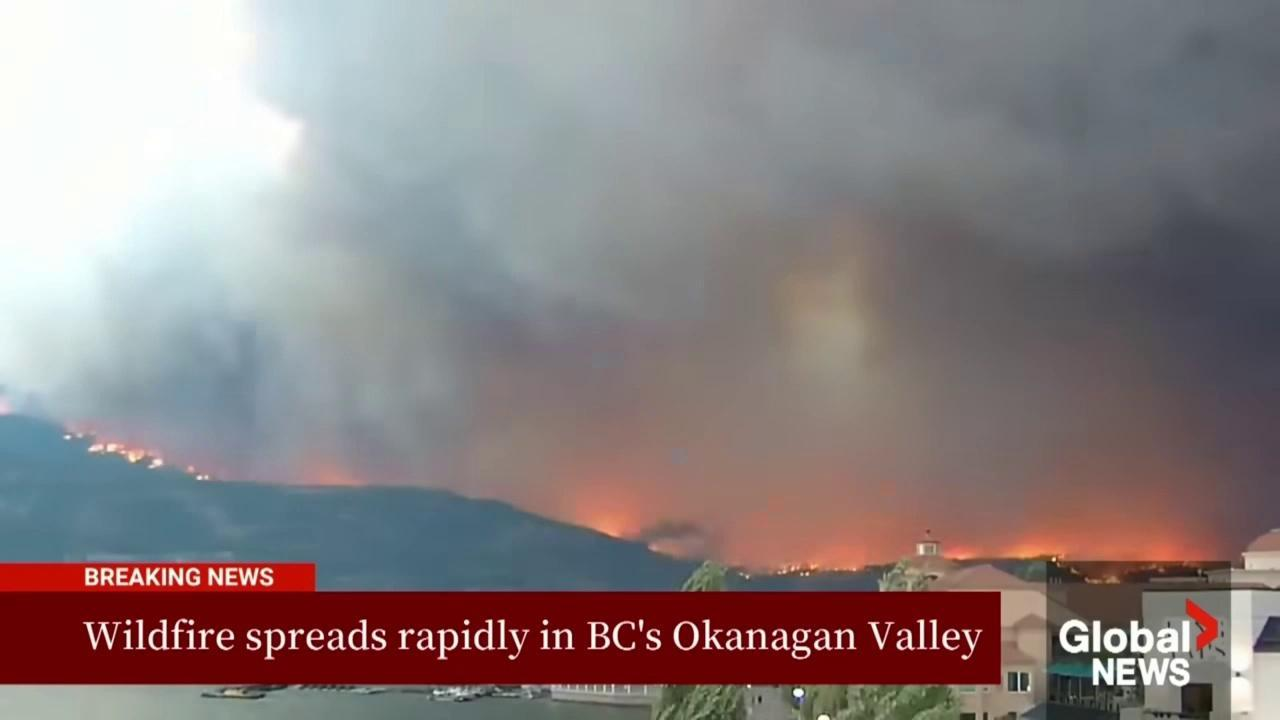fire: (943, 536, 1067, 562), (83, 439, 168, 472), (774, 558, 819, 577), (187, 460, 212, 484), (597, 524, 626, 539), (833, 566, 857, 572)
smoke: (0, 0, 1280, 580)
